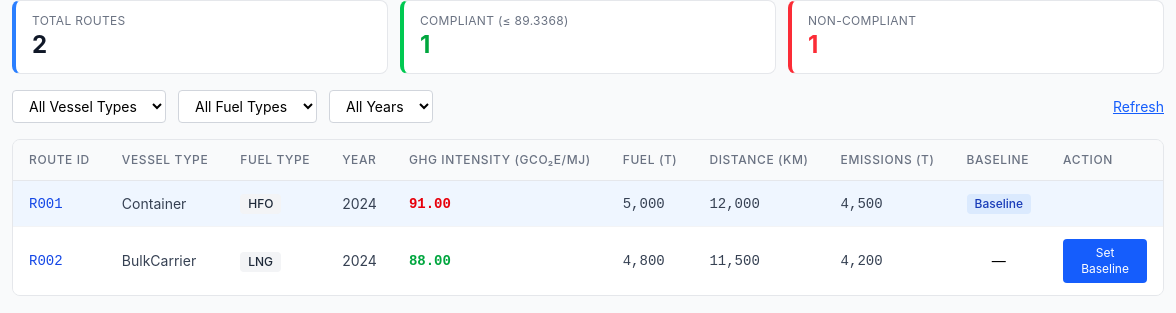
it: RoutesTab › filters by vessel type
Expected: the text "R001" is shown, x1=13 y1=180 x2=106 y2=226
Select "BulkCarrier" in the 1st dropdown showing "All Vessel Types" at (89, 106), box x1=12 y1=90 x2=166 y2=123
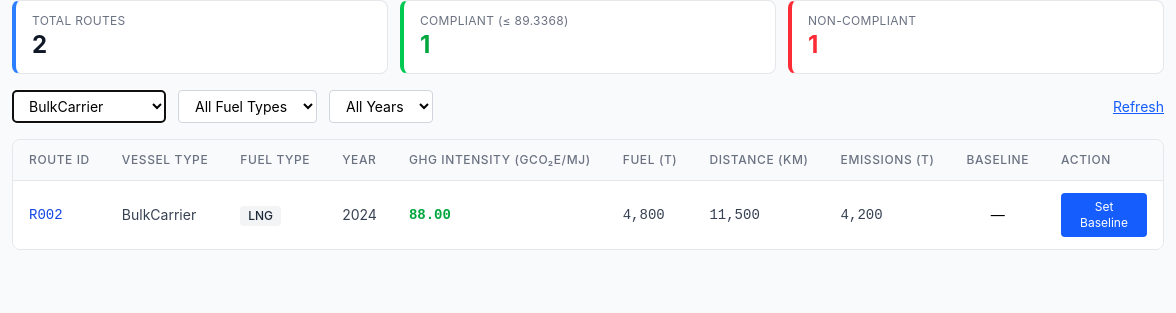
Expected: the text "R002" is shown, x1=13 y1=180 x2=106 y2=249
Result: the text "R001" is gone
